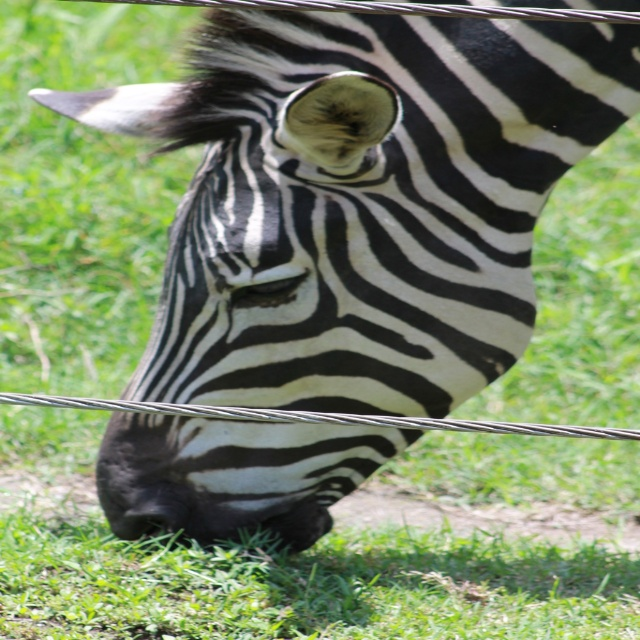Zebra: (26, 0, 639, 555)
